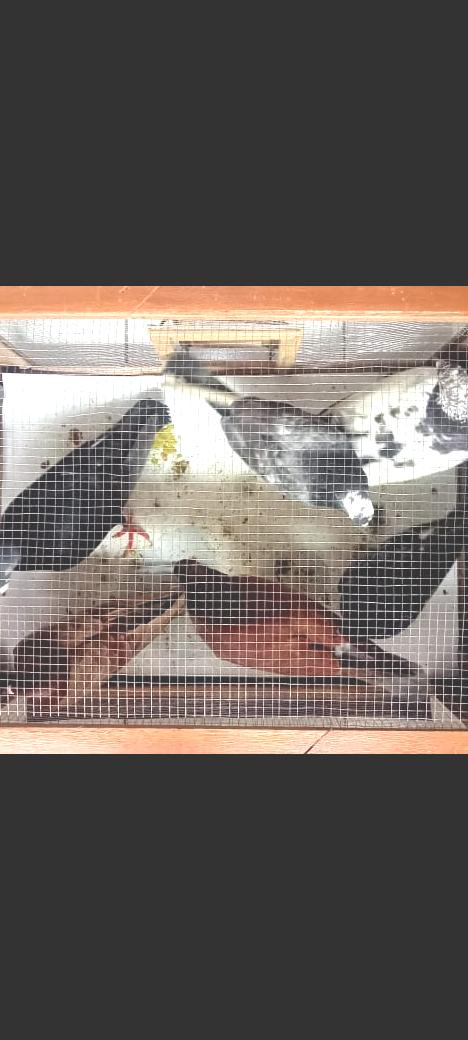Merpati: (160, 343, 374, 529), (173, 561, 426, 705), (0, 400, 171, 599), (2, 586, 186, 713), (319, 357, 468, 489), (338, 498, 468, 641)
